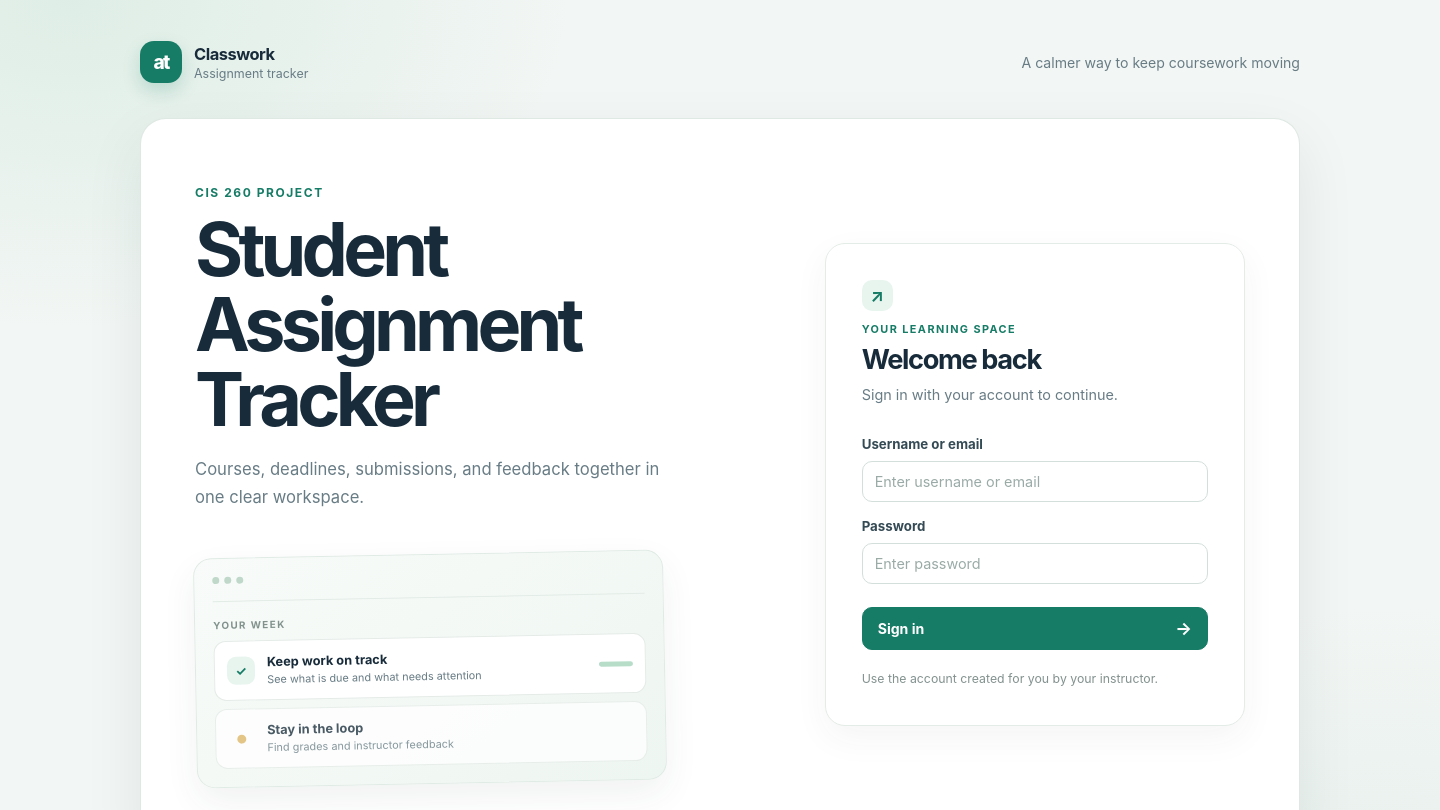
shows an authentication error when sign-in fails
Type "sam" into the field labelled "Username or email". click: (1035, 482)
box: [862,461,1208,502]
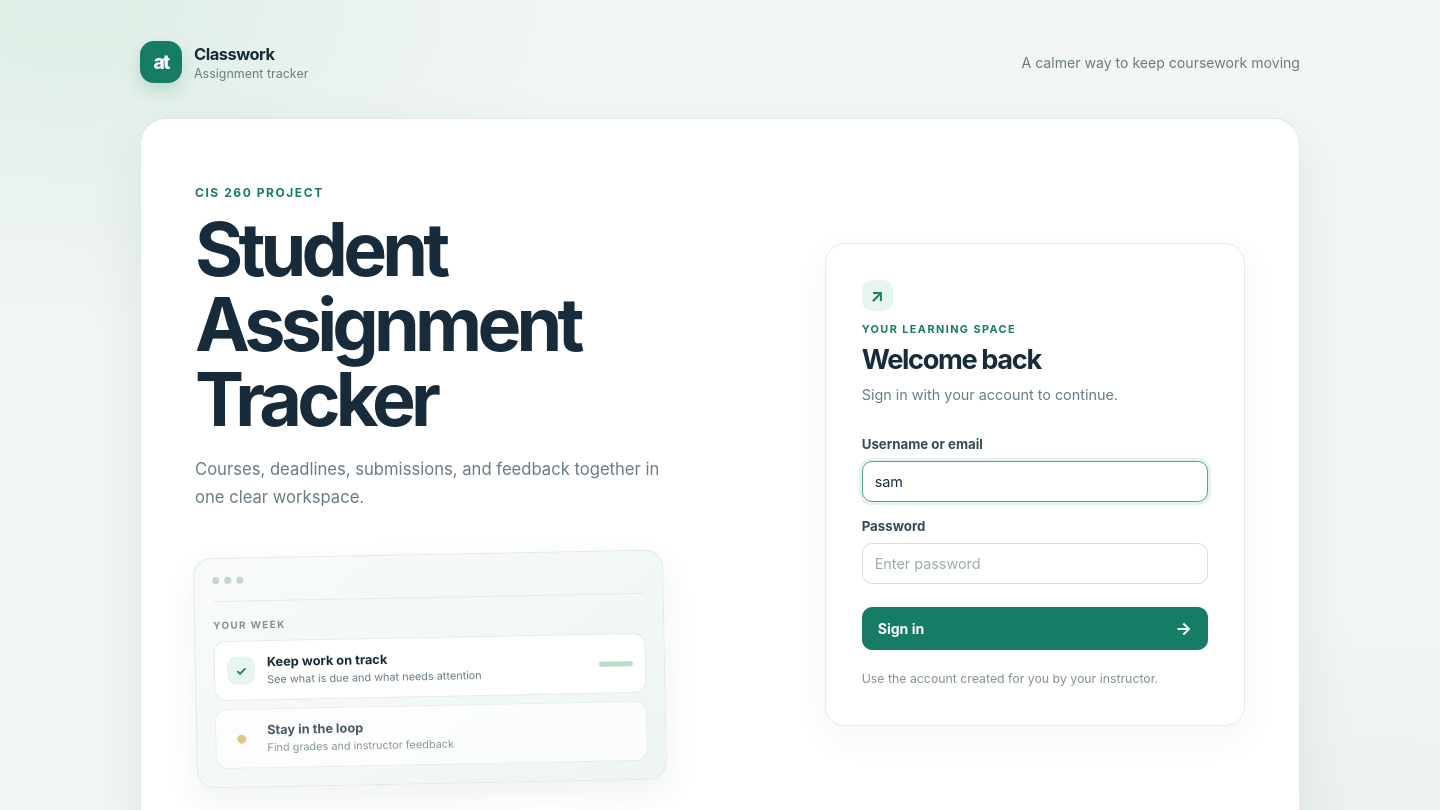
Type "wrong" into the password field labelled "Password". click: (1035, 564)
box: [862,543,1208,584]
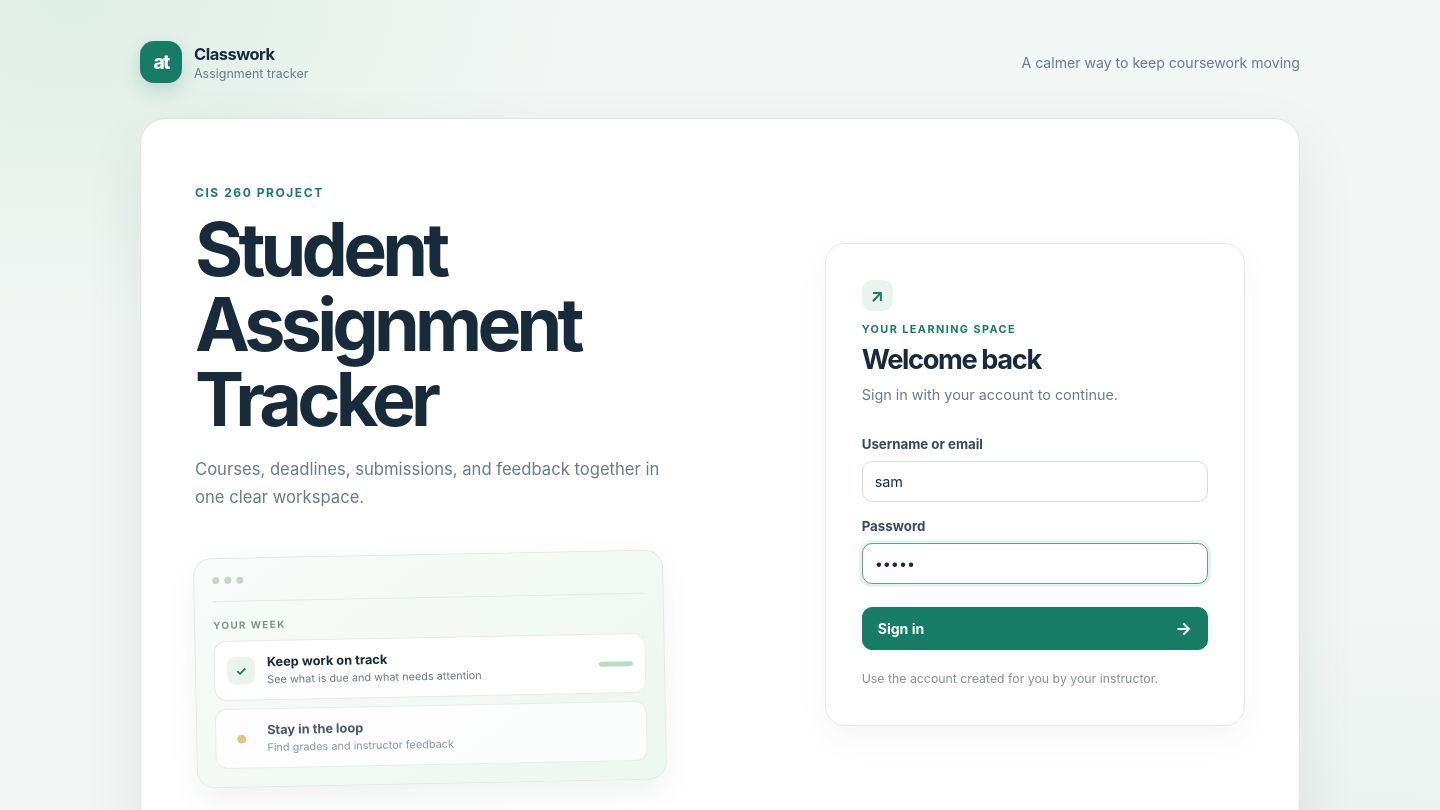
Click the button "Sign in →". click: click(901, 629)
box: [862,607,1208,650]
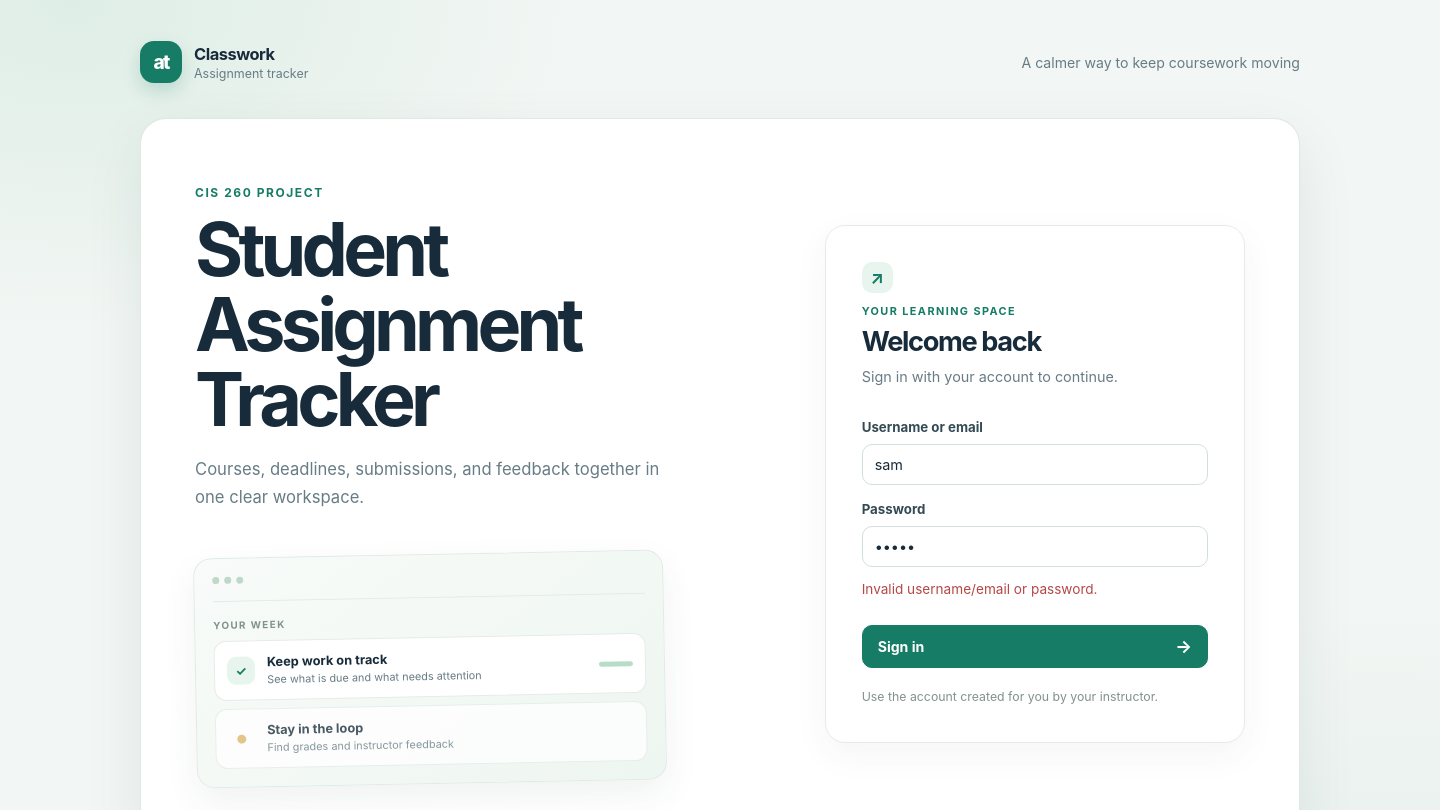
Now the message reads "Invalid username/email or password.", box [862,581,1098,597]
